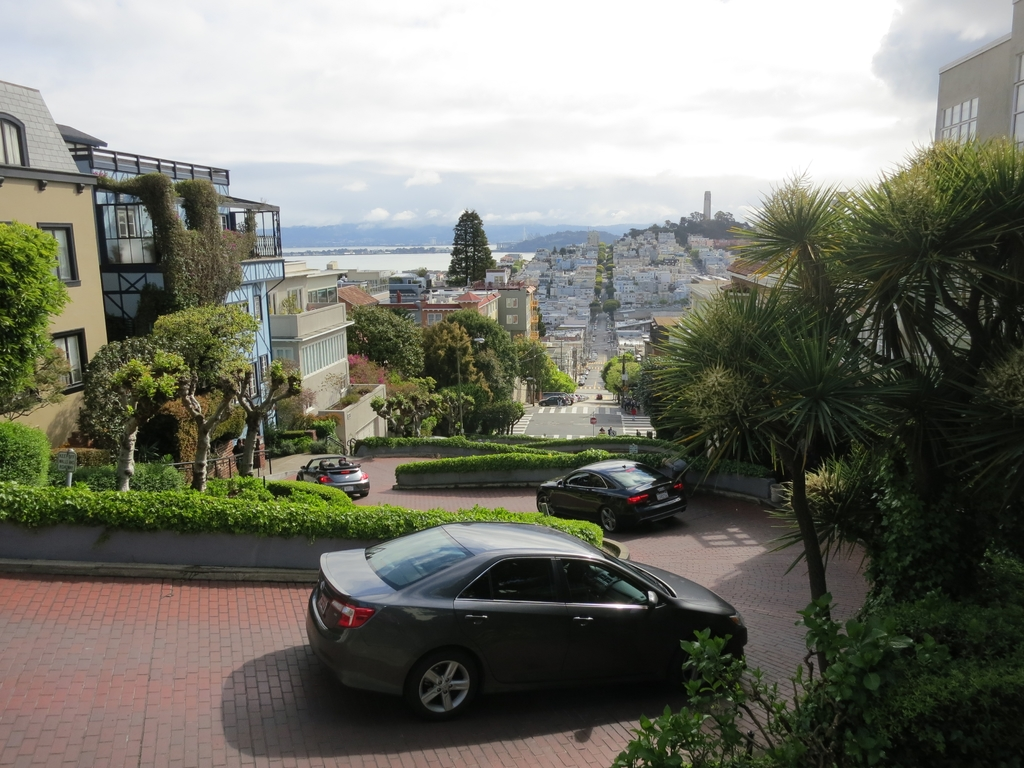Car: (292, 526, 736, 737), (531, 456, 689, 534), (294, 455, 372, 500), (537, 390, 569, 406)
